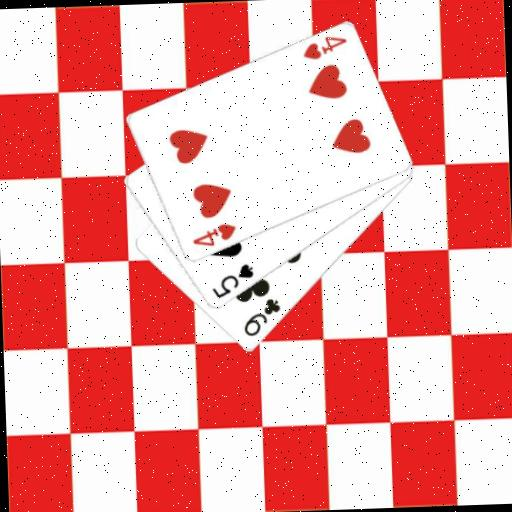4H: (188, 220, 237, 249), (299, 33, 348, 62)
5S: (208, 261, 256, 301)
9C: (239, 296, 283, 339)
